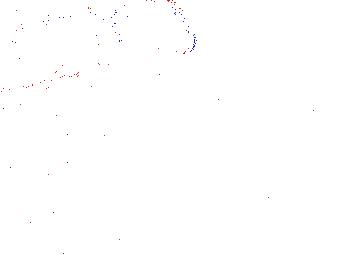moon jellyfish: (3, 24, 123, 93), (104, 1, 195, 55)
